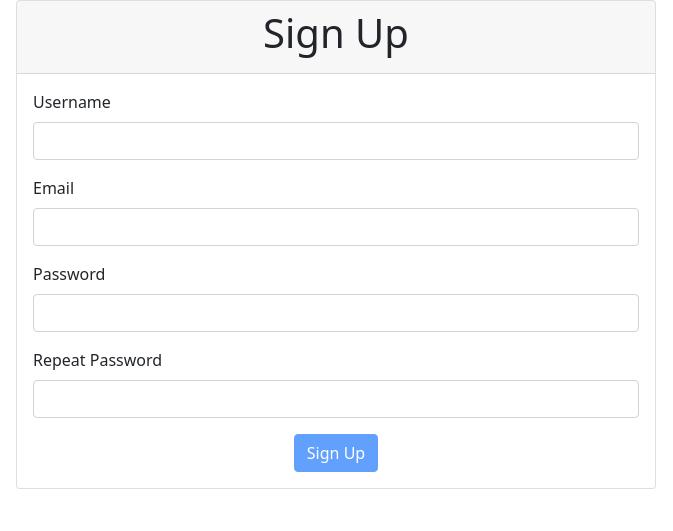
Test case: The signup page › Interactions › displays Username cannot be null for username
Type "user1" into the field labelled "Username".
click(336, 141); type("user1")  # box top-left (33, 122), bottom-right (639, 160)
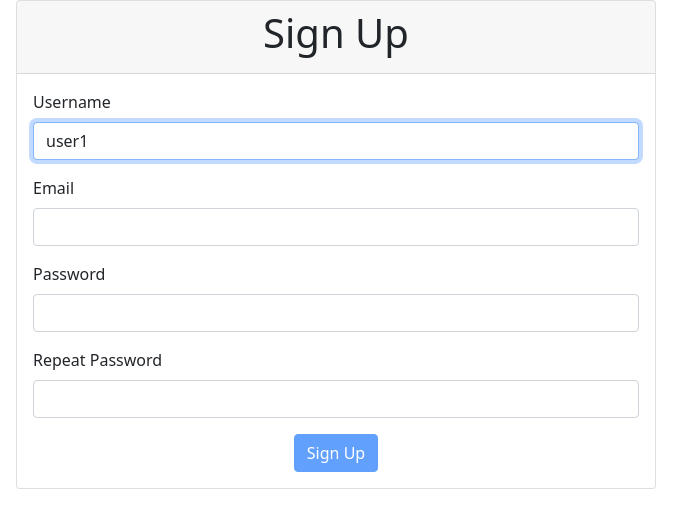
Type "user1@mail.com" into the field labelled "Email".
click(336, 227); type("user1@mail.com")  # box top-left (33, 208), bottom-right (639, 246)
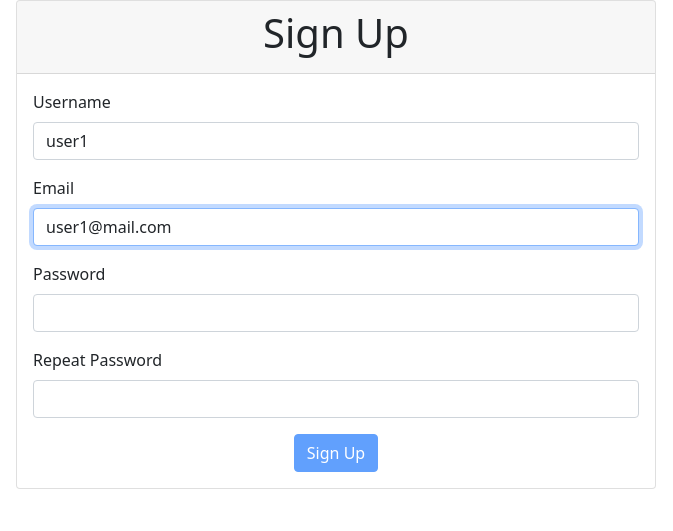
Type "P4ssword" into the password field labelled "Password".
click(336, 313); type("P4ssword")  # box top-left (33, 294), bottom-right (639, 332)
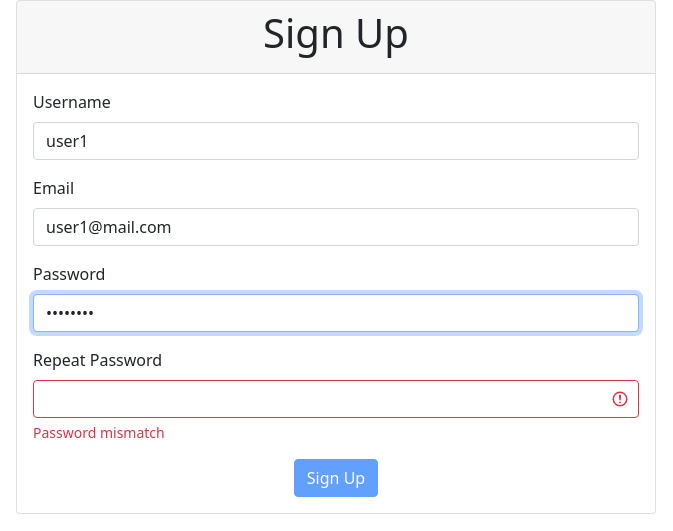
Type "P4ssword" into the password field labelled "Repeat Password".
click(336, 399); type("P4ssword")  # box top-left (33, 380), bottom-right (639, 418)
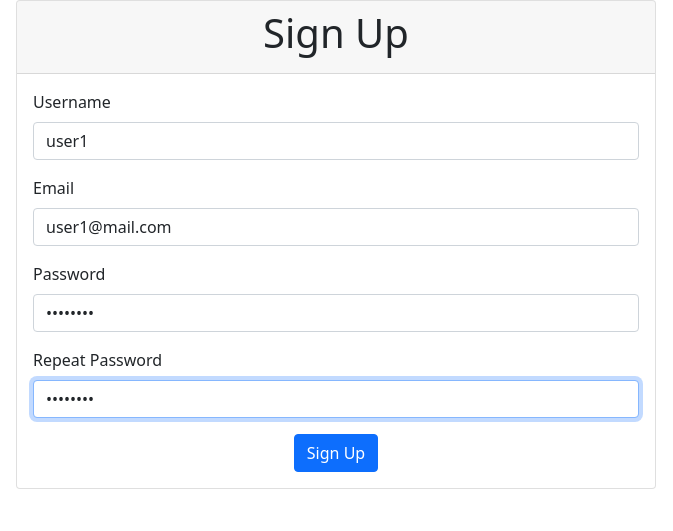
Click the button "Sign Up".
click(336, 453)  # box top-left (294, 434), bottom-right (378, 472)
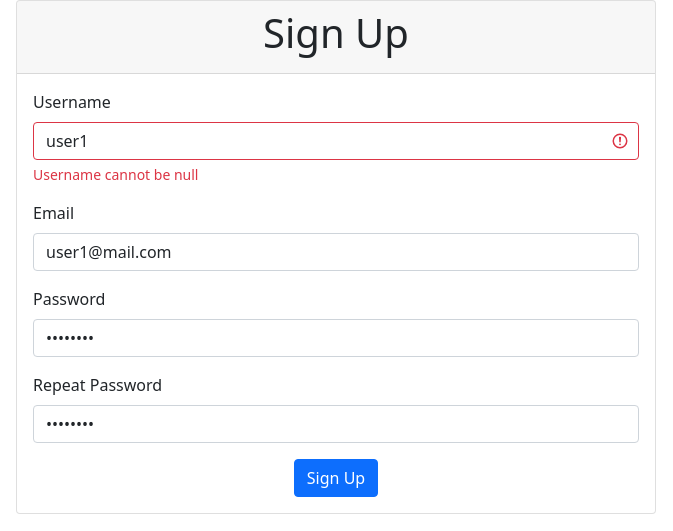
Expected: the text "Username cannot be null" is shown, top-left (33, 165), bottom-right (198, 184)
